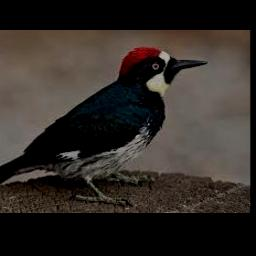Woodpecker: (0, 46, 209, 204)
